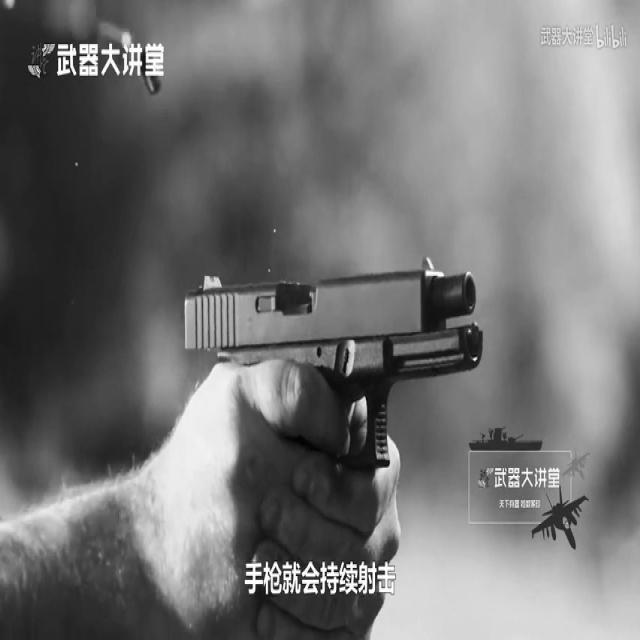Hand-Gun: (156, 216, 542, 629)
